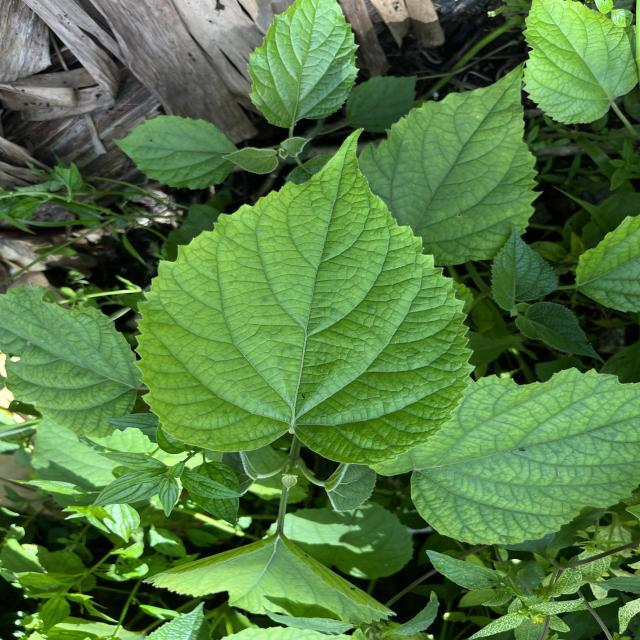Clerodendrum infortunatum: (131, 125, 480, 467), (365, 365, 640, 548), (359, 58, 547, 268), (0, 280, 148, 440)
